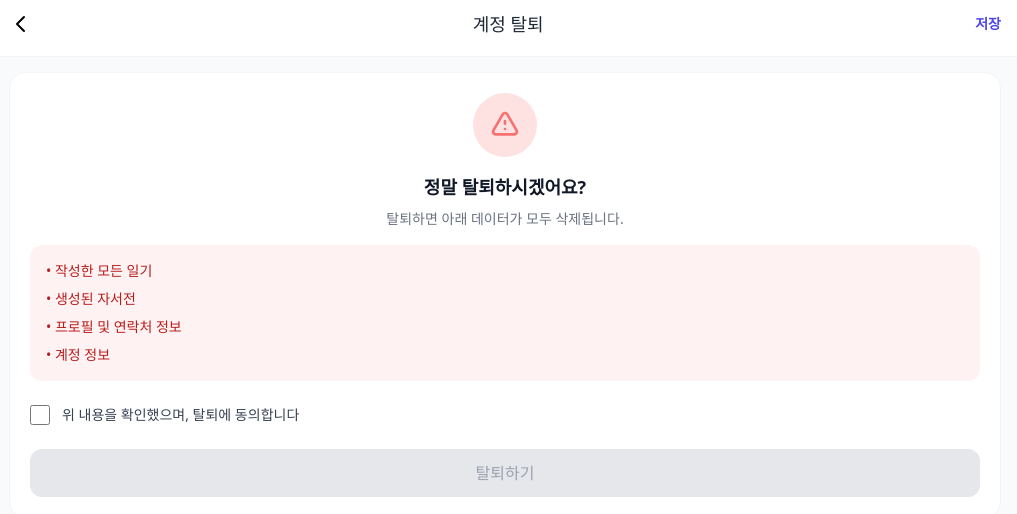
Withdraw Flow - Integration Test › idle → confirmed state transition › should enable withdraw button when checkbox is checked
The width and height of the screenshot is (1017, 514).
Click the checkbox with test id "withdraw-consent-checkbox" at (40, 415), box [30,405,50,425]
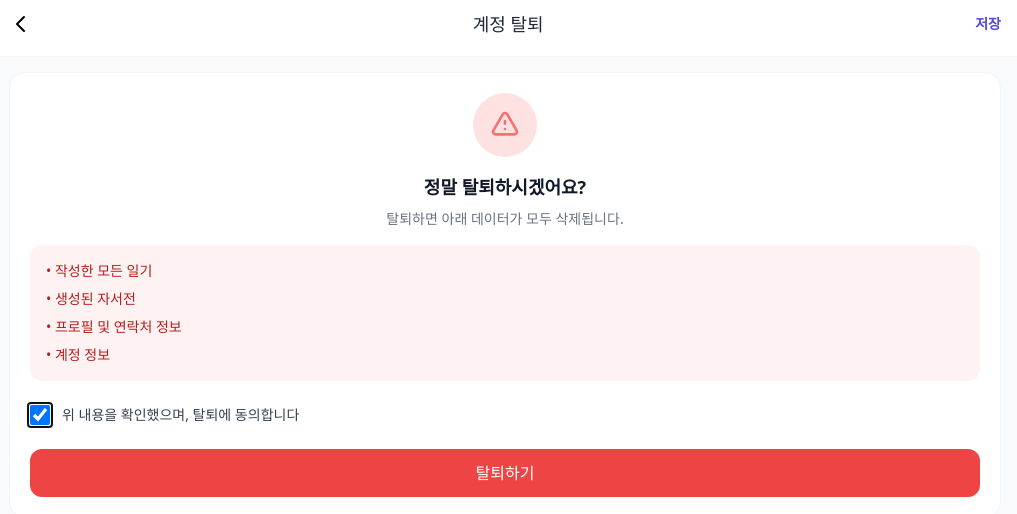
Expected: the button "탈퇴하기" is enabled, [30,449,980,497]
